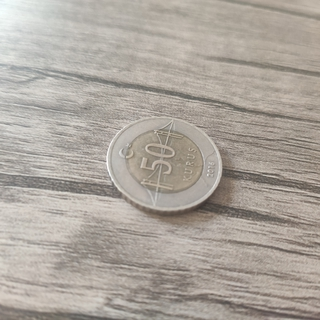50KURUS: (105, 114, 224, 217)
